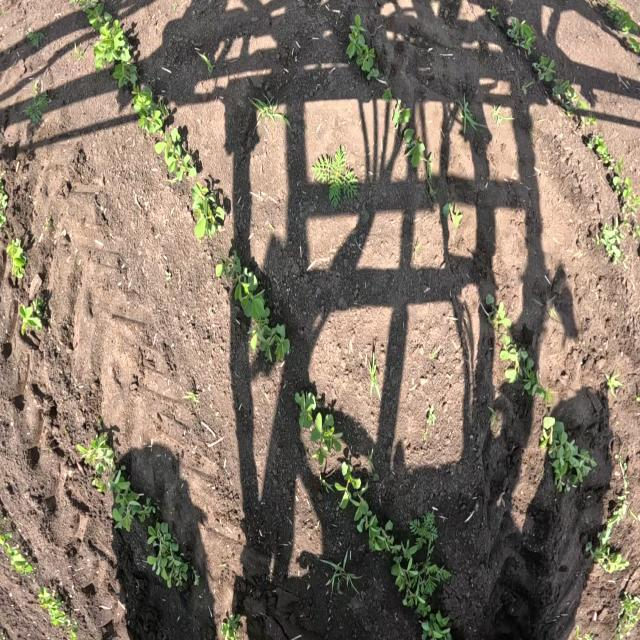plants: (482, 290, 554, 401), (534, 404, 593, 504), (209, 252, 273, 322), (308, 139, 362, 206), (145, 523, 194, 586), (182, 179, 231, 238), (396, 125, 439, 191), (579, 534, 634, 582), (150, 125, 194, 183), (247, 78, 287, 138), (346, 16, 384, 78), (544, 79, 598, 120), (599, 467, 632, 532), (247, 321, 290, 368), (129, 90, 170, 138), (361, 511, 394, 570), (607, 158, 640, 215), (319, 549, 358, 596), (108, 477, 140, 533), (502, 9, 541, 54), (417, 549, 446, 607), (360, 349, 388, 409), (596, 216, 626, 272), (0, 532, 30, 582), (74, 430, 115, 466), (10, 296, 46, 336), (392, 540, 413, 608), (309, 424, 341, 468), (96, 29, 131, 69), (33, 586, 66, 628), (335, 461, 362, 511), (450, 91, 480, 136), (21, 86, 52, 128), (291, 382, 319, 426), (350, 495, 374, 544), (1, 237, 26, 284), (414, 610, 453, 640), (600, 0, 640, 28), (611, 596, 640, 634), (409, 507, 442, 540), (581, 124, 614, 156), (603, 364, 628, 405), (190, 36, 218, 72), (73, 0, 110, 26), (384, 98, 415, 127), (530, 51, 560, 80), (488, 97, 512, 132), (220, 612, 247, 640), (21, 20, 45, 51), (420, 402, 442, 435), (442, 198, 463, 231), (63, 36, 87, 60), (111, 69, 138, 90), (143, 491, 158, 527), (624, 32, 640, 59), (378, 82, 398, 101), (0, 182, 7, 230), (90, 474, 106, 494), (483, 1, 497, 20), (68, 624, 81, 640)
